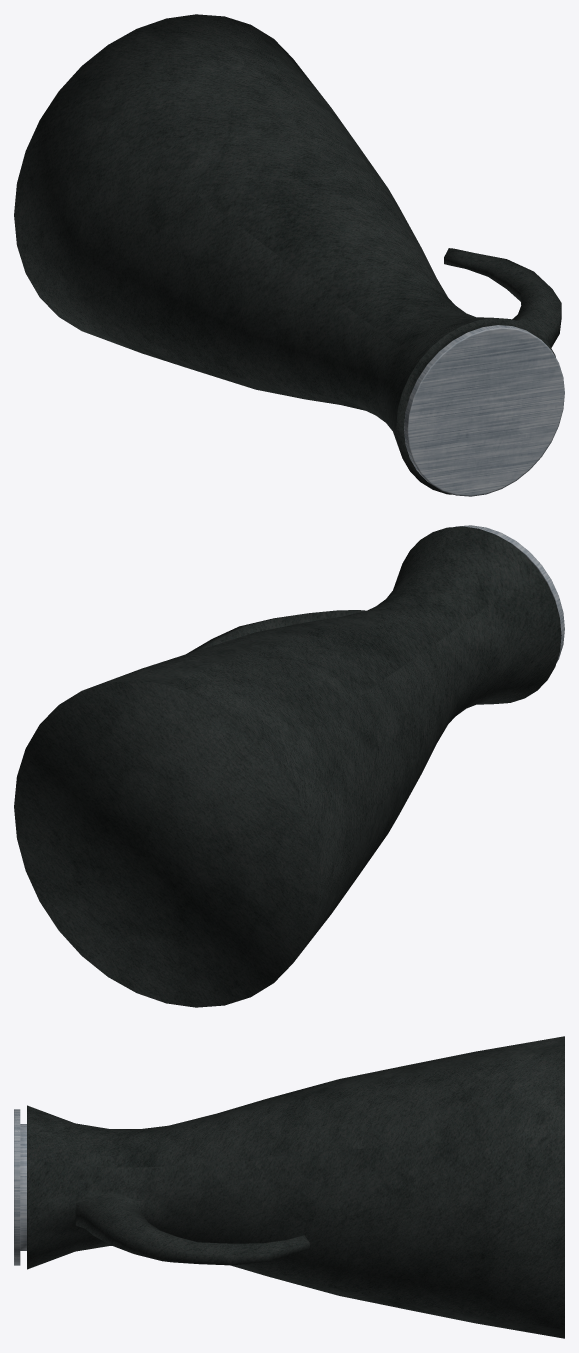
File: coffecan_tex.obj
3 renders of one model, top to bottom at view 1: azimuth 30°, elevation 25°; view 2: azimuth 150°, elevation 25°; view 3: azimuth 270°, elevation 25°, orthographic. The views are drawn at different scales.
Parts seen in each view (by area): view 1: coffecan_tex_Cylinder.006; view 2: coffecan_tex_Cylinder.006; view 3: coffecan_tex_Cylinder.006.
Part boxes in pixels (x1,y1,x2,y2): coffecan_tex_Cylinder.006: (14,14,564,496); coffecan_tex_Cylinder.006: (14,525,564,1007); coffecan_tex_Cylinder.006: (14,1036,564,1338).
Bounding box in the file's own units: 0.1385 × 0.1292 × 0.2351.
Materials: 2 (2 with a texture image).
